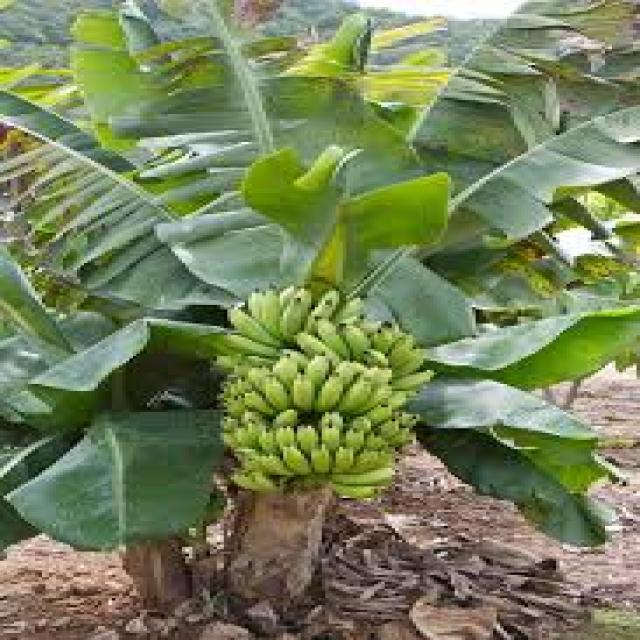banana: (206, 284, 434, 498)
